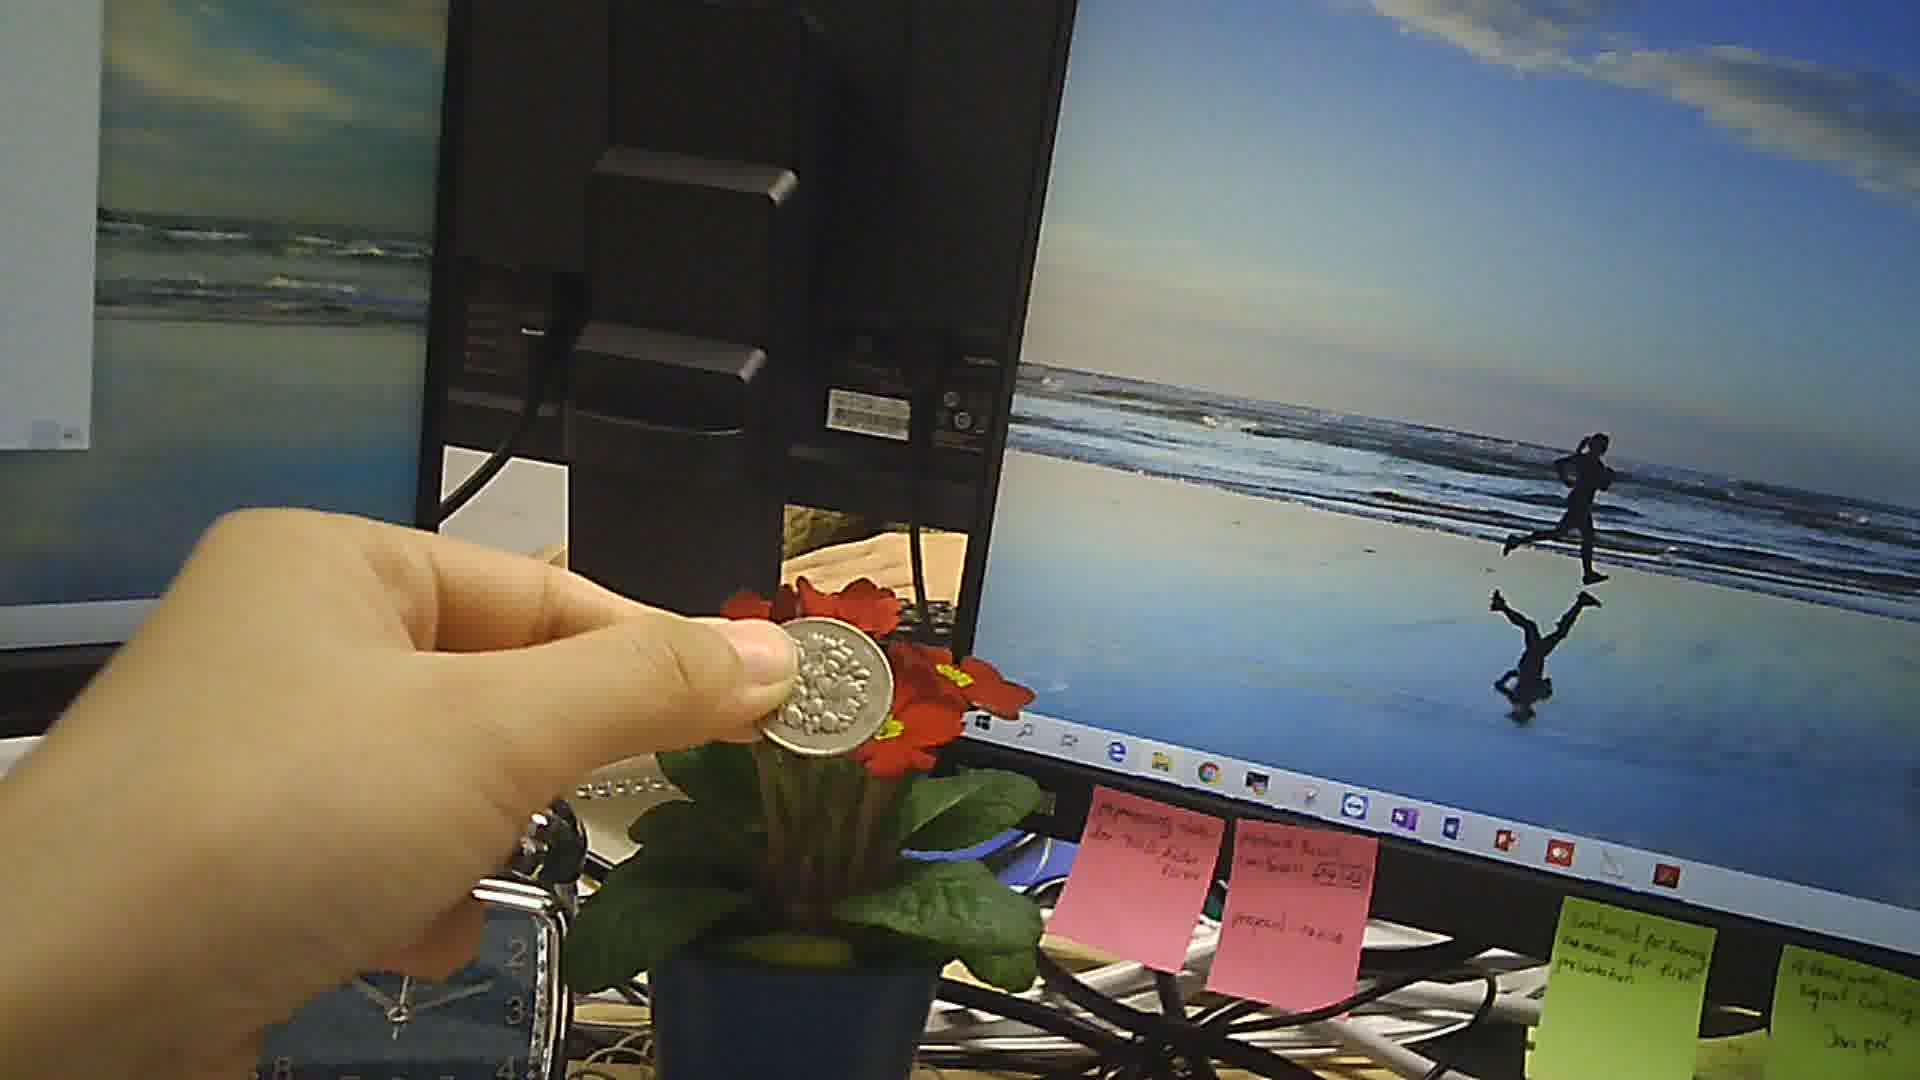100 Yen: (745, 611, 895, 765)
